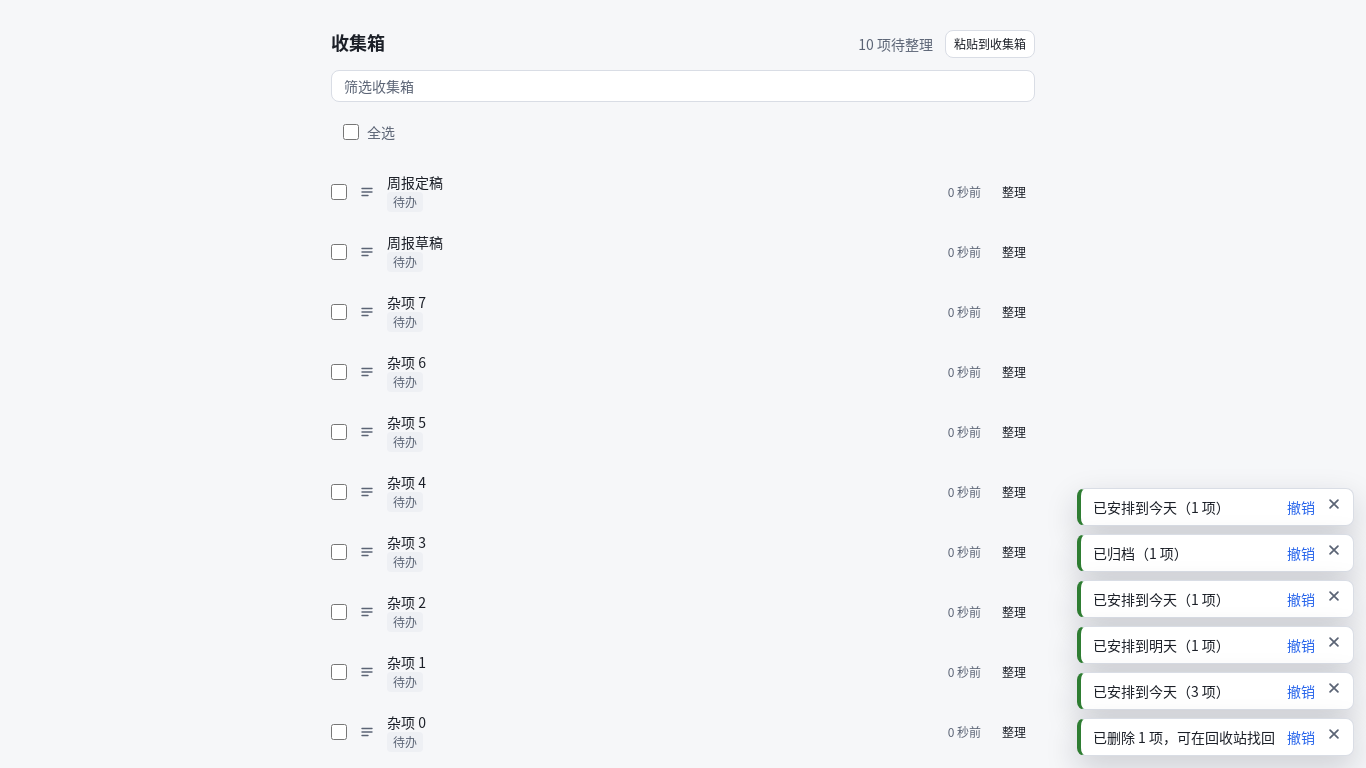
Test case: InboxPage › 条目多时出现筛选框：只显示、只整理匹配的条目；Esc 清空，条目少了就收起
Expected: the text "周报草稿" is shown, [387,232,443,252]
// Ctrl+F 跳到筛选框。
Press f
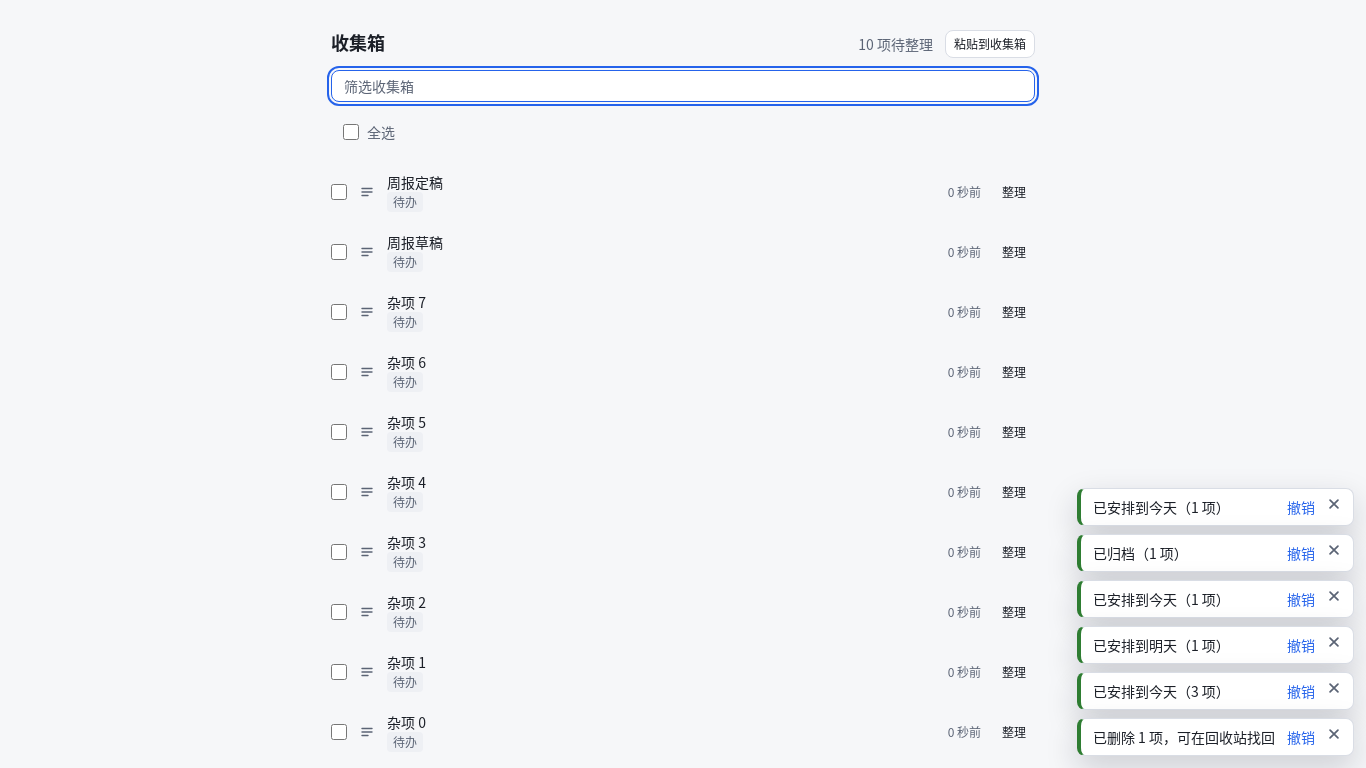
Type "周报" into the search field with placeholder "筛选收集箱" at (683, 86), box [331,70,1035,102]
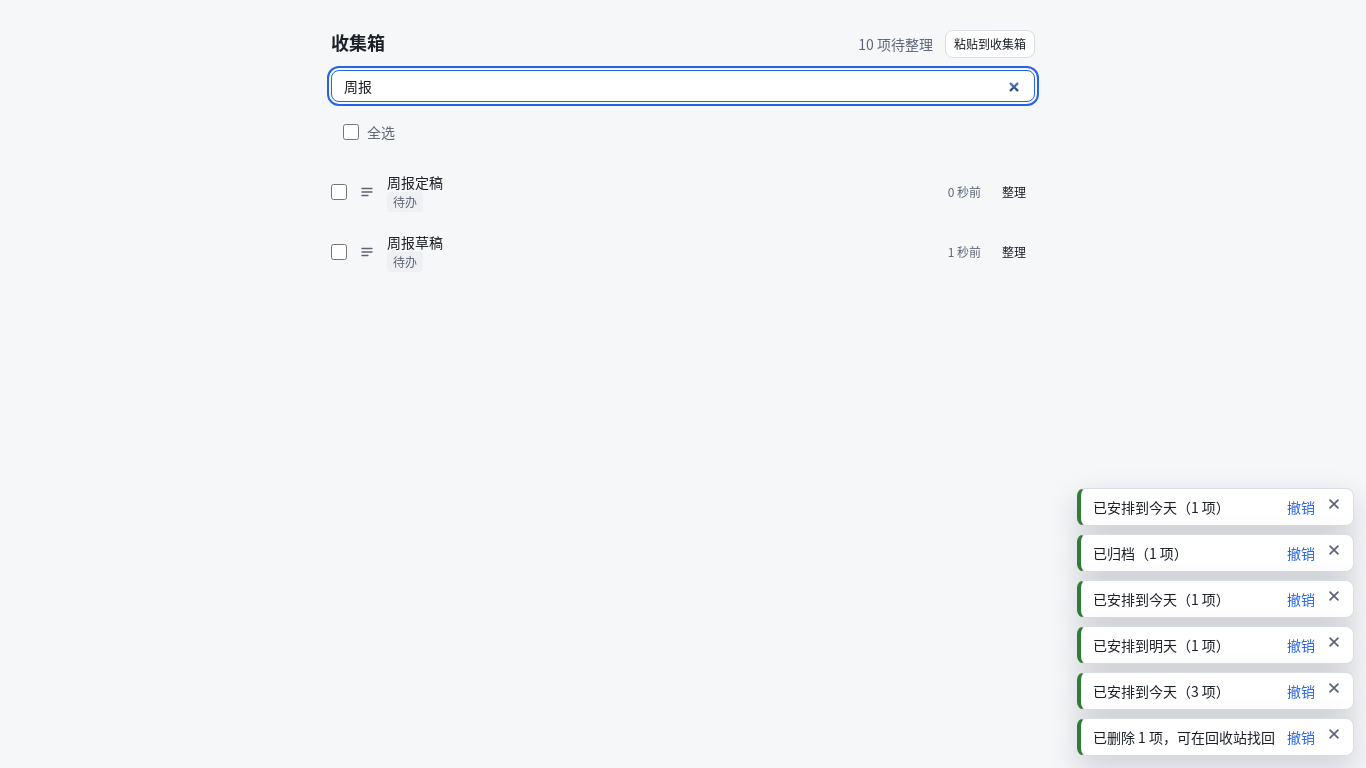
// Ctrl+A 与 T 只作用于看得见的两条。
Press a in the checkbox named "选择：周报定稿", box [331,184,347,200]
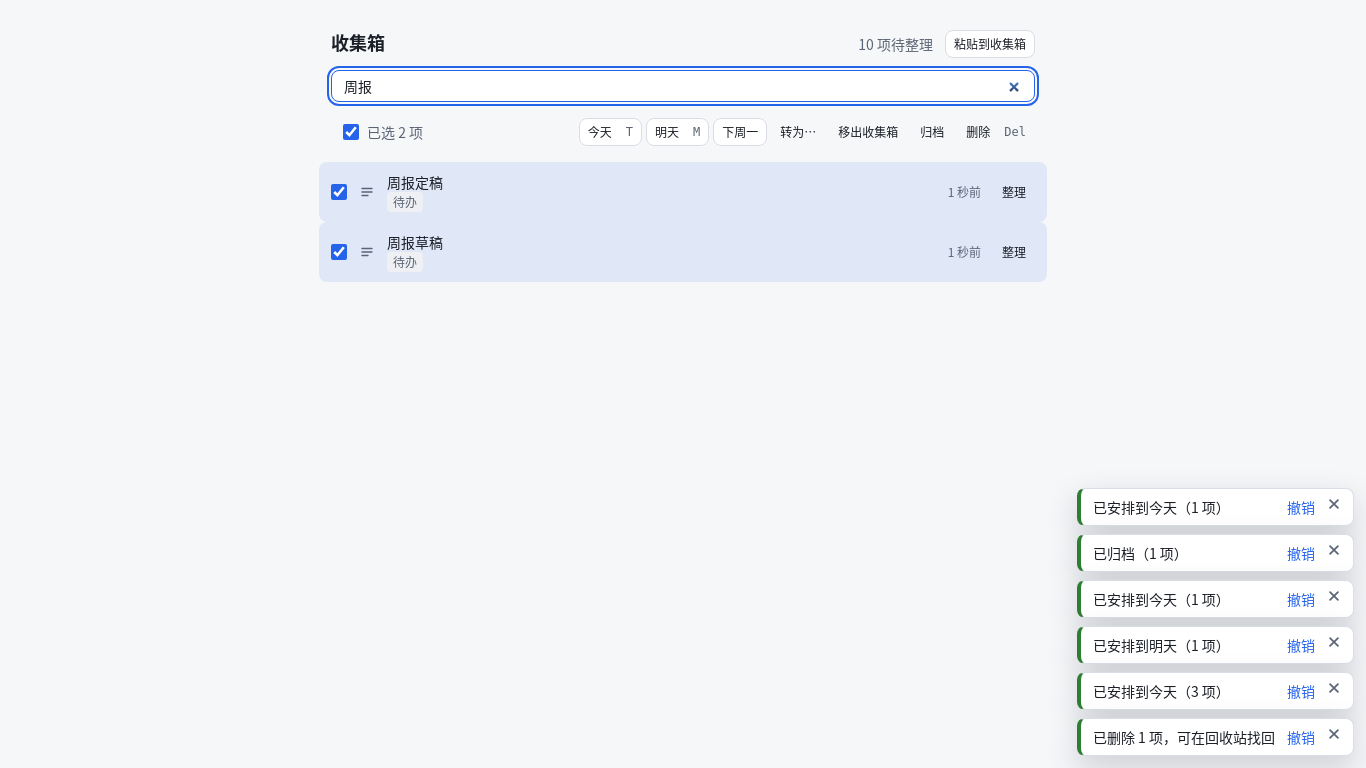
Press t in the checkbox named "选择：周报定稿", box [331,184,347,200]
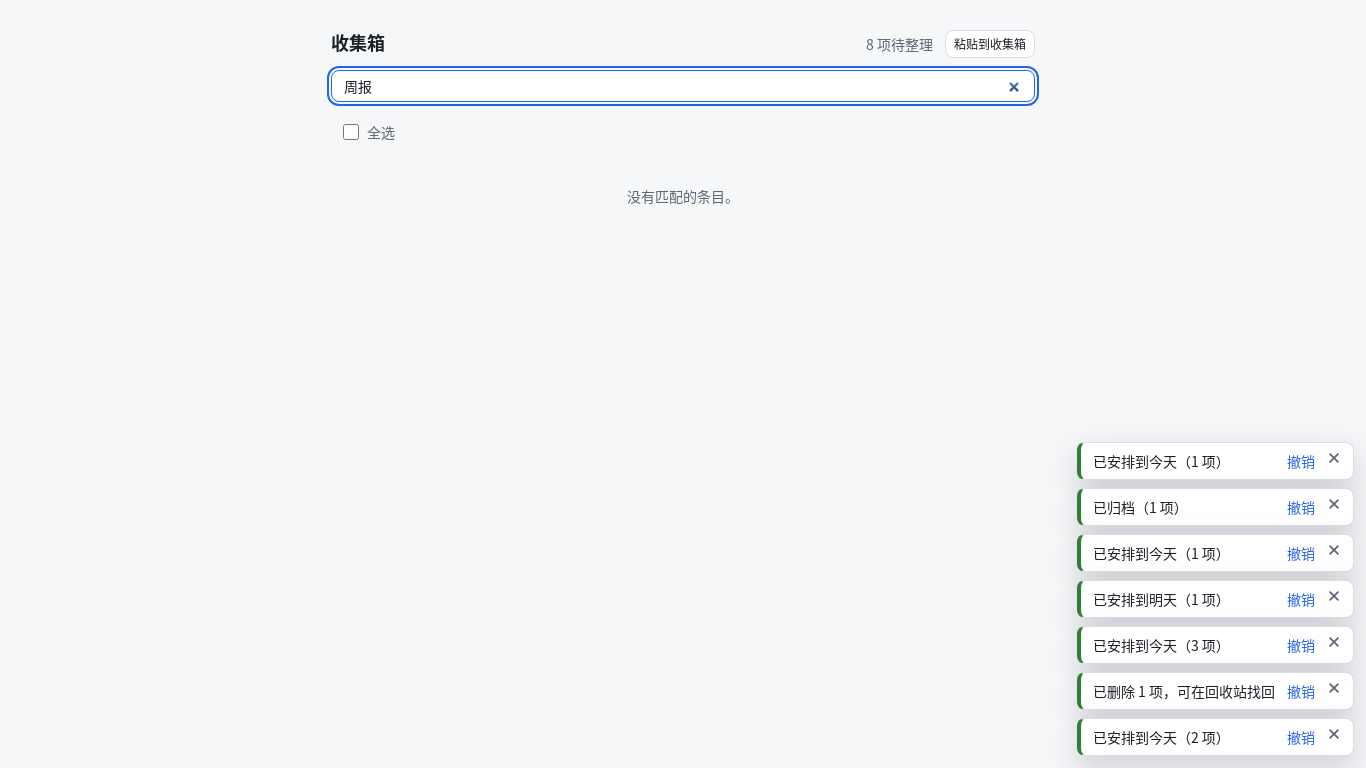
Replace the text in the search field named "筛选收集箱" with "没有这个词" at (683, 86), box [331,70,1035,102]
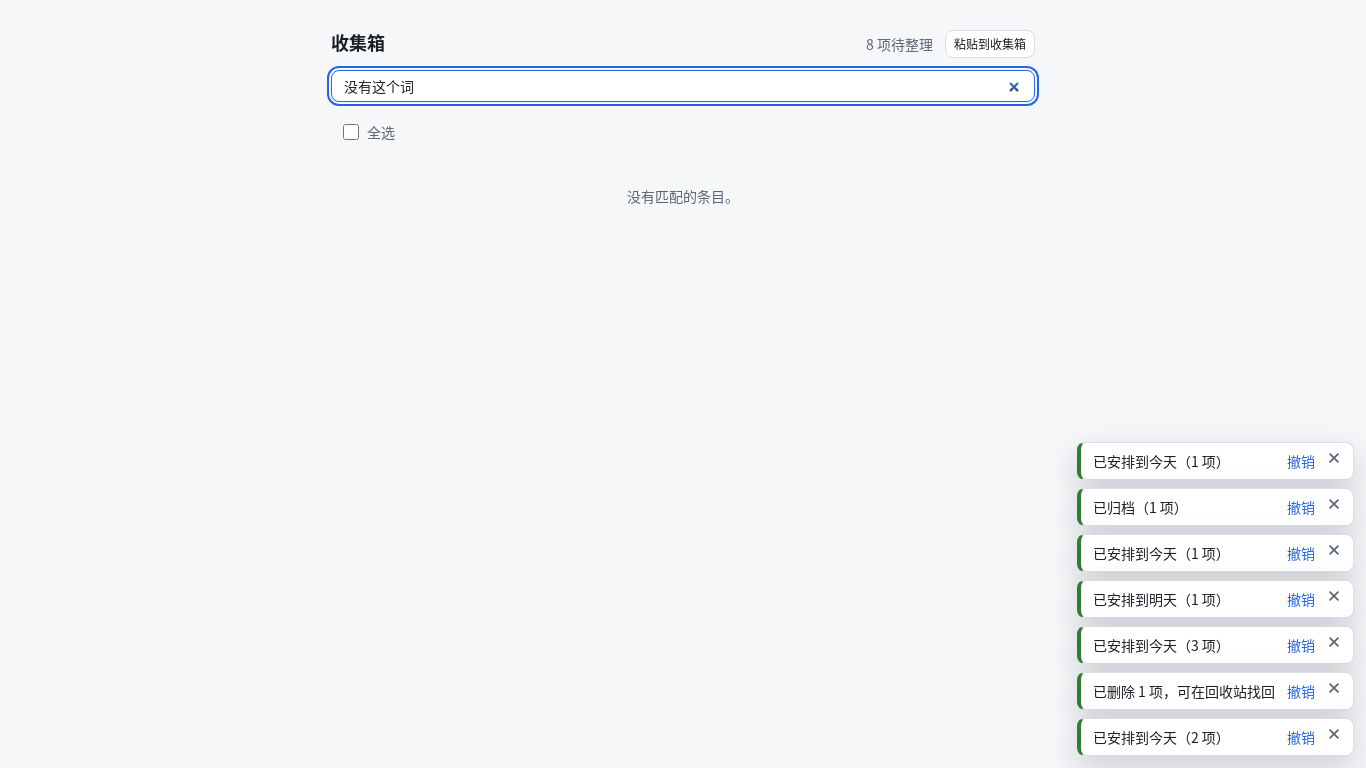
Press Escape in the search field named "筛选收集箱", box [331,70,1035,102]
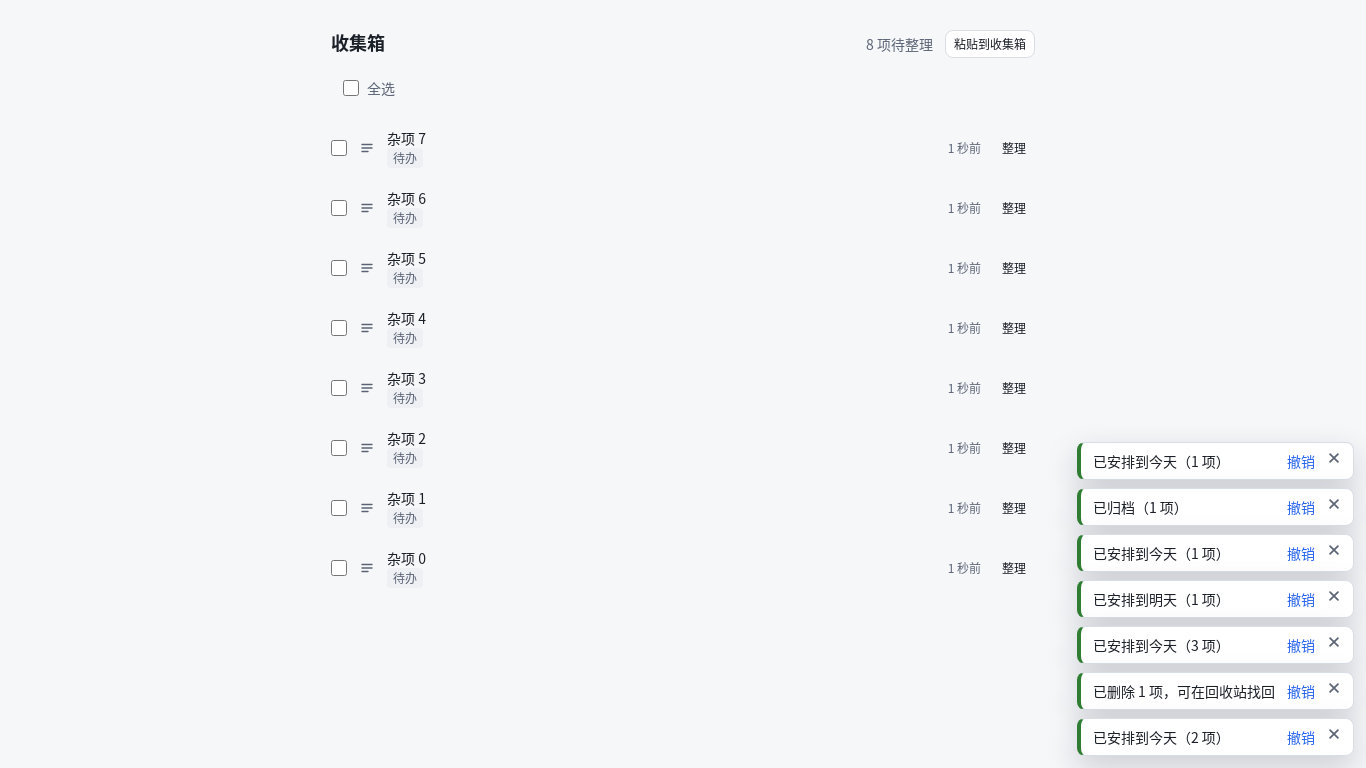
Now the search field labelled "筛选收集箱" is gone
